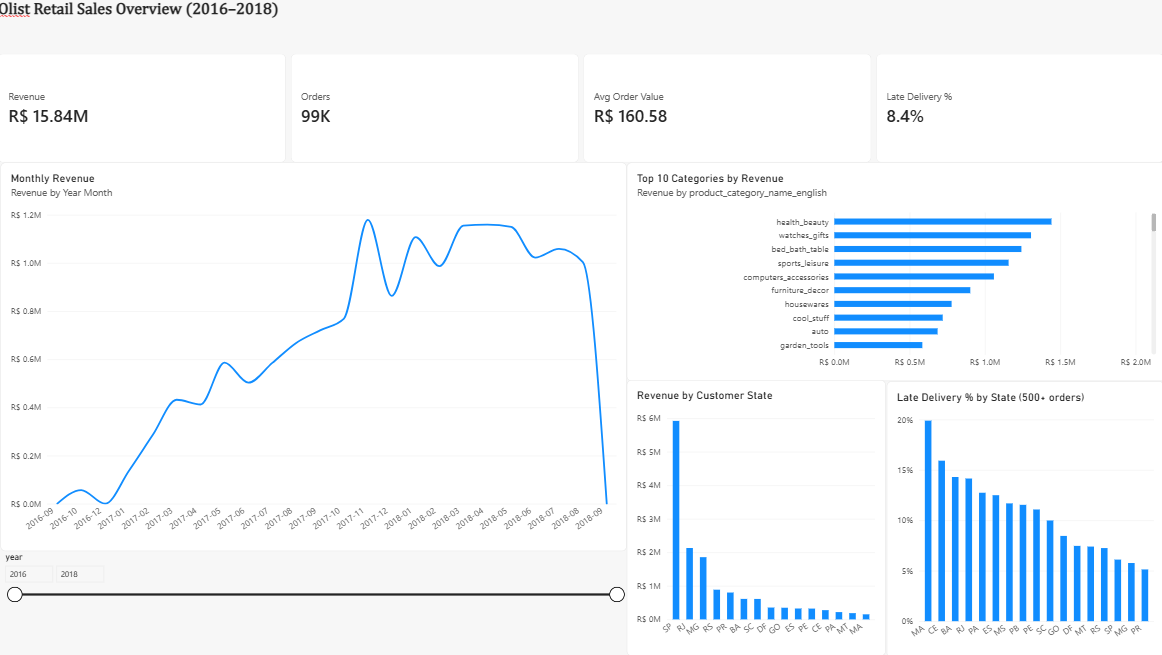

The dashboard page shown, as its layout file describes it:
{"tool":"powerbi","page":{"name":"Page 1","canvas":[1920,1080],"ordinal":0},"visuals":[{"type":"cardVisual","fields":{"Data":["fact_sales.Revenue","fact_sales.Orders","fact_sales.Avg Order Value","fact_sales.Late Delivery %"]},"box":[0,88.5,1920.4,179.1],"z":0},{"type":"lineChart","title":"Monthly Revenue","fields":{"Category":["dim_date.Year Month"],"Y":["fact_sales.Revenue"]},"box":[4.1,267.6,1031.2,640.1],"z":1000},{"type":"clusteredBarChart","title":"Top 10 Categories by Revenue","fields":{"Category":["dim_product.product_category_name_english"],"Y":["fact_sales.Revenue"]},"box":[1035.3,267.6,889.2,360.2],"z":2000},{"type":"clusteredColumnChart","title":"Late Delivery % by State (500+ orders)","fields":{"Category":["dim_customer.customer_state"],"Y":["fact_sales.Late Delivery %"]},"box":[1463.5,627.8,456.9,454.9],"z":3000},{"type":"clusteredColumnChart","title":"Revenue by Customer State","fields":{"Category":["dim_customer.customer_state"],"Y":["fact_sales.Revenue"]},"box":[1035.3,625.7,426,454],"z":4000},{"type":"slicer","fields":{"Values":["dim_date.year"]},"box":[4.1,907.7,1031.2,175],"z":5000},{"type":"textbox","box":[0,0,1920.4,88.5],"z":6000}]}

Visuals, with their boxes in screenshot pixels (x1, y1, x2, y2), scaled from the page's 1920x1080 canvas onto the 1162x655 screenshot:
cardVisual - fact_sales.Revenue x fact_sales.Orders: 0, 54, 1161, 162
"Monthly Revenue" lineChart: 2, 162, 627, 551
"Top 10 Categories by Revenue" clusteredBarChart: 627, 162, 1161, 381
"Late Delivery % by State (500+ orders)" clusteredColumnChart: 886, 381, 1161, 654
"Revenue by Customer State" clusteredColumnChart: 627, 379, 884, 654
slicer - dim_date.year: 2, 551, 627, 654
textbox: 0, 0, 1161, 54
